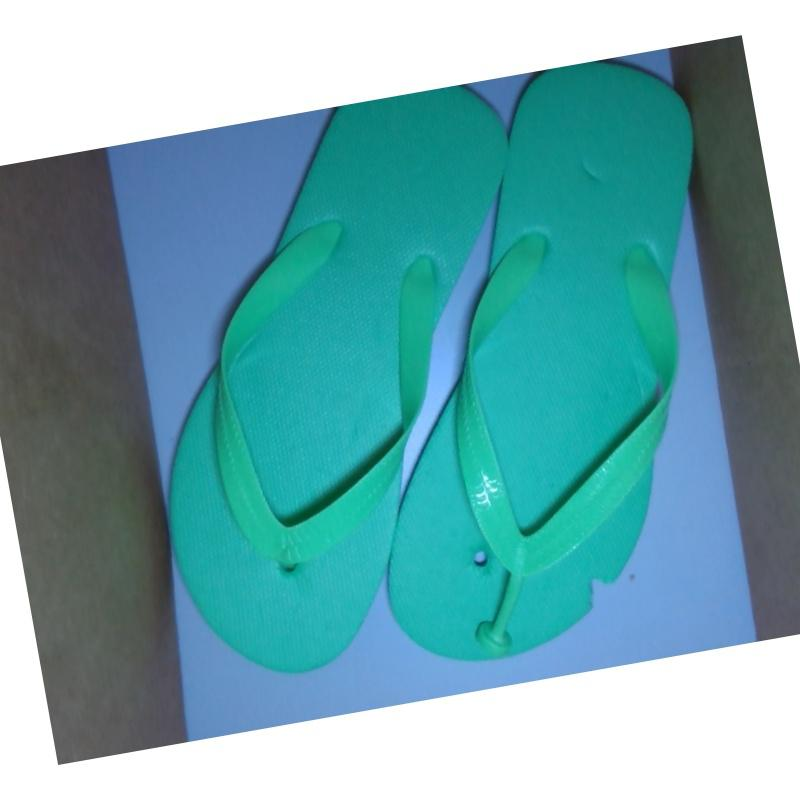chipped: (575, 555, 633, 624)
detached: (470, 585, 522, 668)
